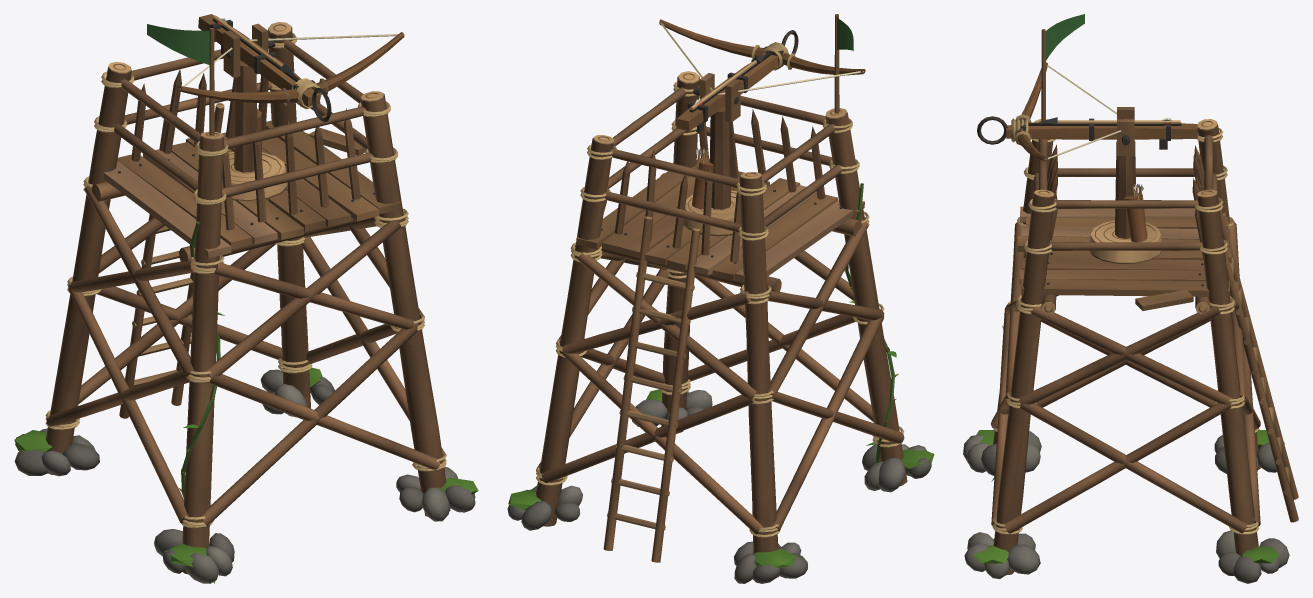
The model's file is bow_tower.glb.
The picture shows the model from 3 angles, left to right: view 1: azimuth 30°, elevation 25°; view 2: azimuth 150°, elevation 25°; view 3: azimuth 270°, elevation 25°; orthographic projection. The views are drawn at different scales.
Visible parts, largest first — view 1: Body.003, Aim, Turret; view 2: Body.003, Aim, Turret; view 3: Body.003, Turret, Aim, Bolt.
Boxes of the visible parts, x1=… form: Body.003: x1=14, y1=22, x2=478, y2=583; Aim: x1=180, y1=14, x2=404, y2=122; Turret: x1=222, y1=23, x2=287, y2=201; Body.003: x1=507, y1=14, x2=934, y2=583; Aim: x1=659, y1=19, x2=865, y2=132; Turret: x1=683, y1=73, x2=740, y2=236; Body.003: x1=963, y1=14, x2=1298, y2=583; Turret: x1=1089, y1=107, x2=1162, y2=263; Aim: x1=977, y1=62, x2=1197, y2=161; Bolt: x1=1039, y1=117, x2=1180, y2=125.
Size of the model in its own units: 2.93 by 4.65 by 3.05.
